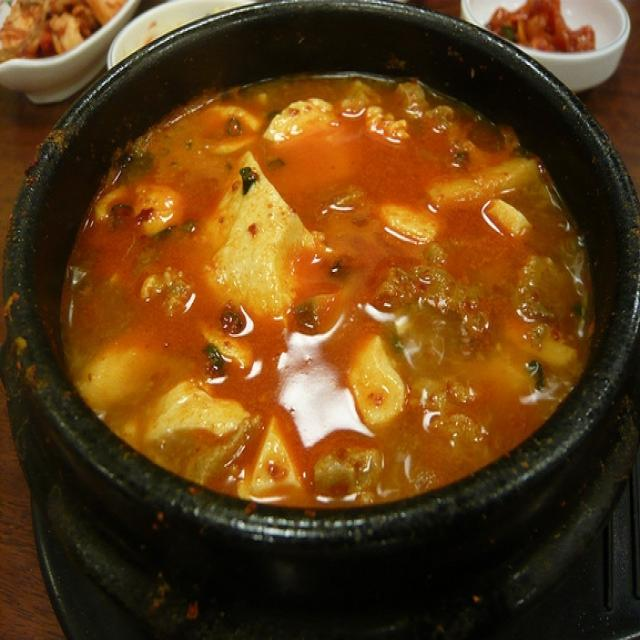汤锅炖物: (13, 8, 629, 592)
